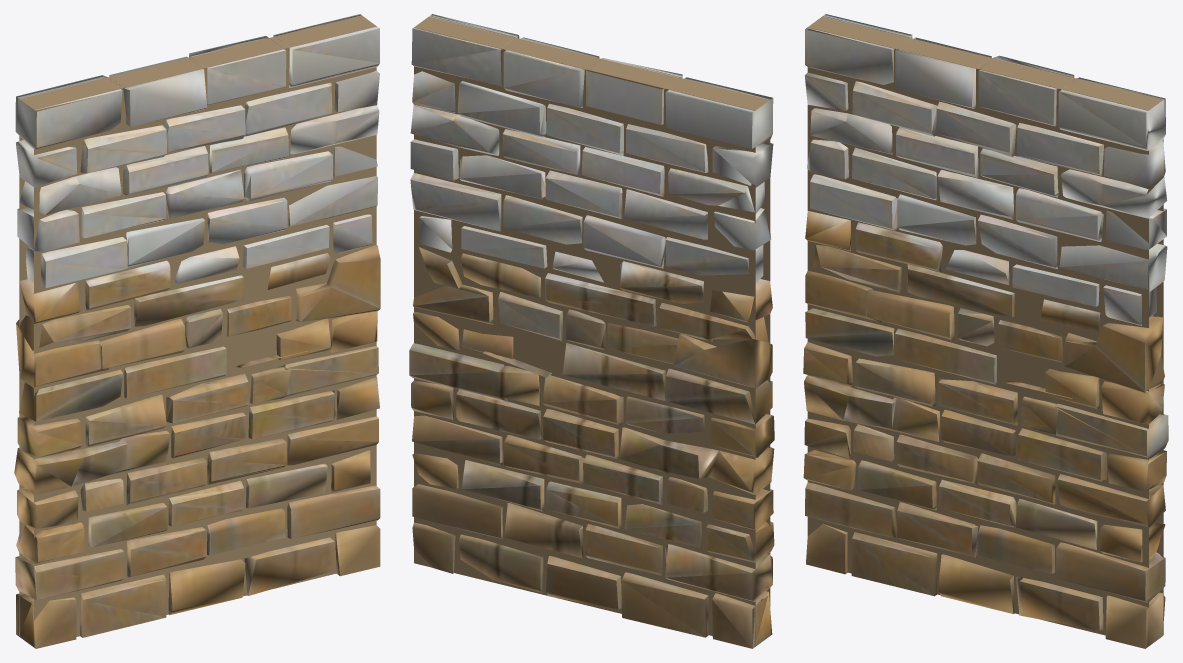
The model's file is wall-plaster.lod1.glb.
3 views of the same model, side by side, from view 1: azimuth 30°, elevation 25°; view 2: azimuth 150°, elevation 25°; view 3: azimuth 330°, elevation 25° (orthographic).
Bounding box in the file's own units: 2 × 3 × 0.25.
Materials: 1 (1 with a texture image).
